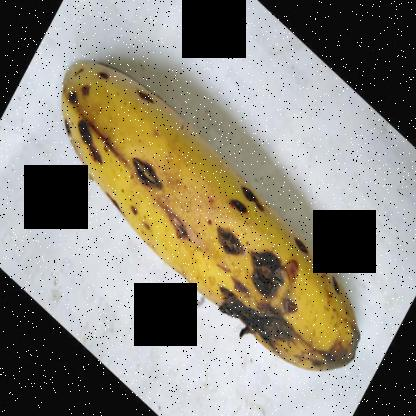rotten: (195, 306, 357, 388), (53, 92, 111, 178), (248, 243, 304, 310), (131, 146, 181, 190), (168, 209, 198, 268), (232, 174, 267, 224), (206, 218, 244, 262), (134, 80, 160, 121), (292, 228, 318, 267), (99, 181, 122, 222), (95, 59, 118, 87)
